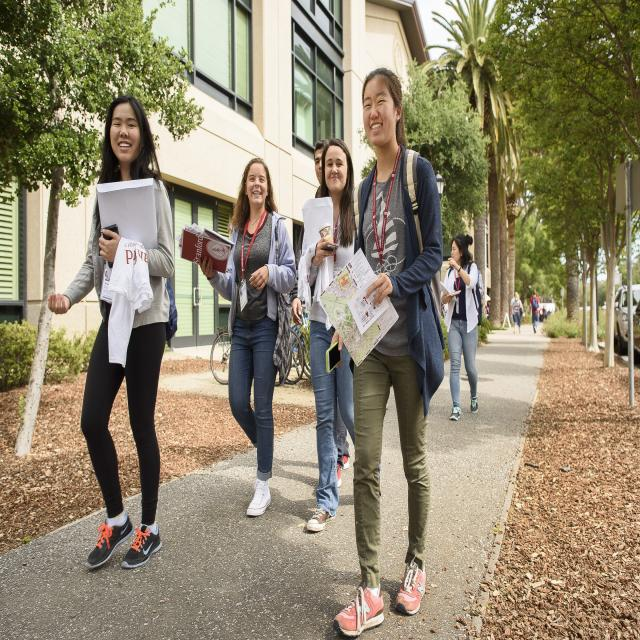body: (318, 70, 446, 640), (46, 89, 170, 576), (175, 154, 299, 527), (297, 138, 356, 534), (290, 136, 350, 488), (440, 232, 483, 420), (467, 250, 484, 298), (529, 288, 541, 334), (511, 292, 524, 334), (483, 296, 493, 321), (510, 292, 516, 326), (541, 304, 546, 322)
